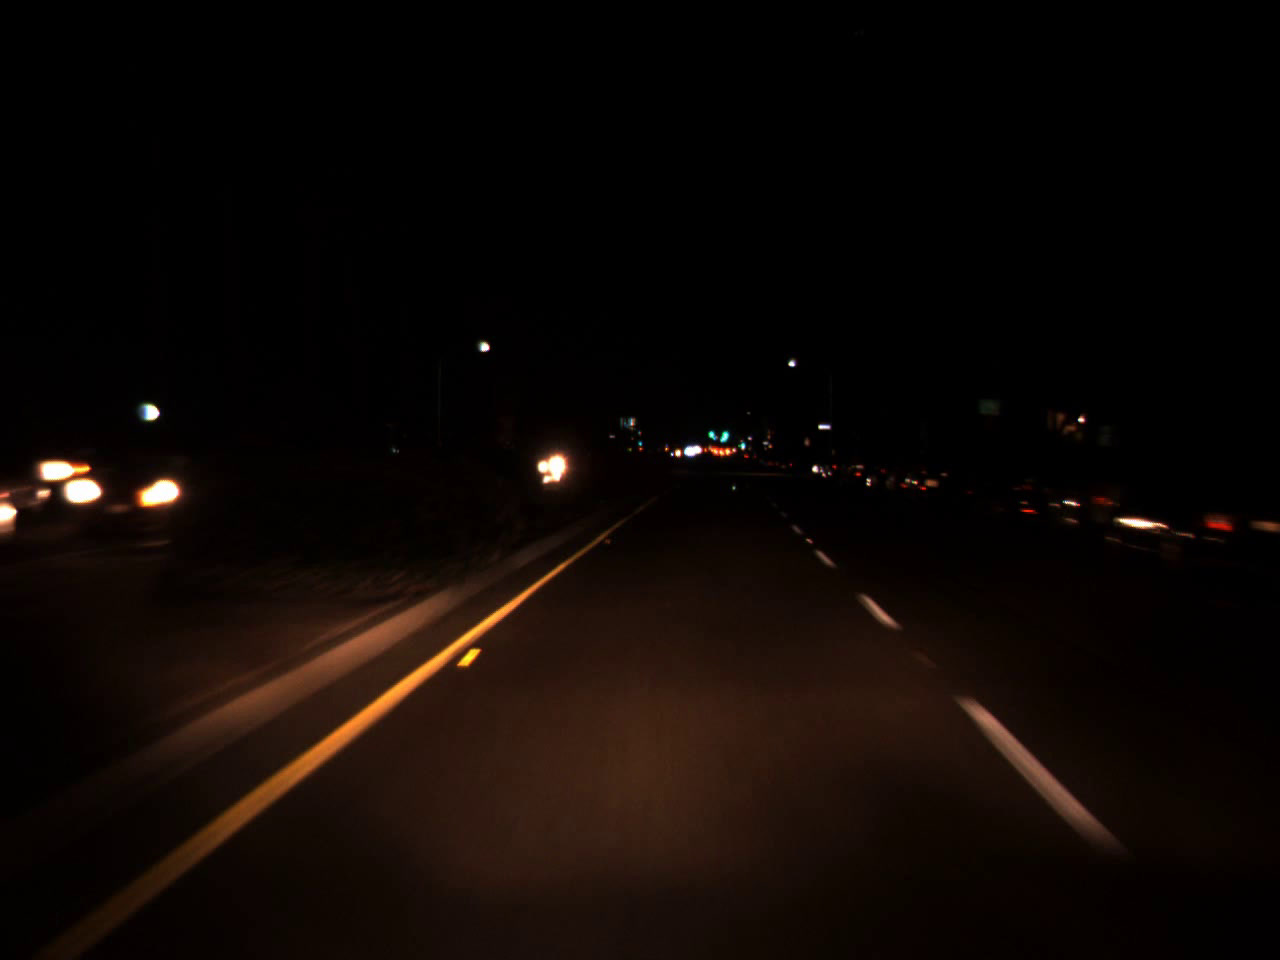go: (717, 418, 729, 445), (706, 423, 715, 441), (739, 437, 746, 449)
